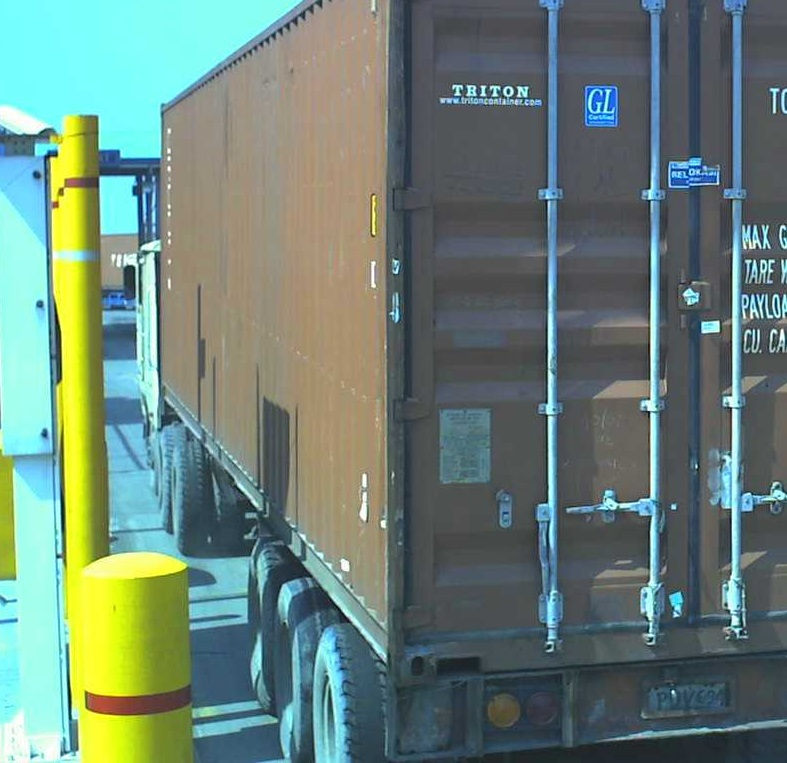container_door: (387, 1, 783, 685)
